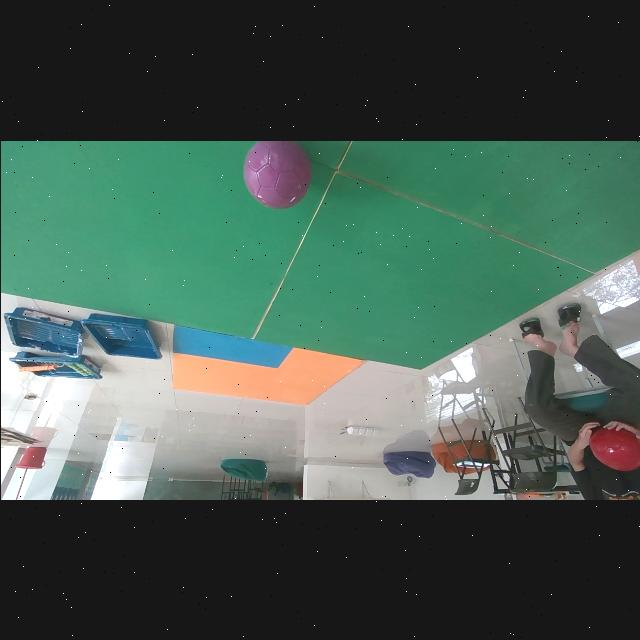P: (242, 140, 310, 208)
R: (589, 428, 640, 471)
